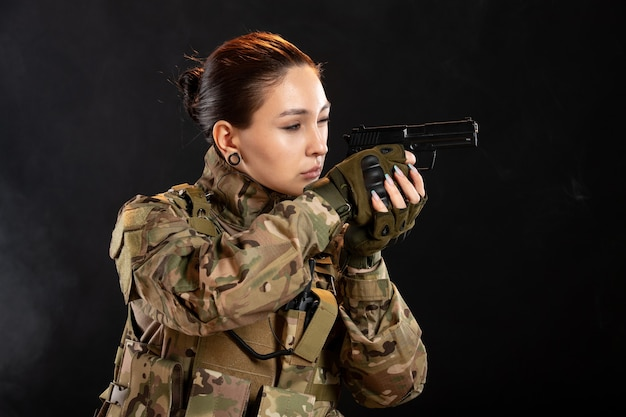gun: (350, 119, 482, 175)
